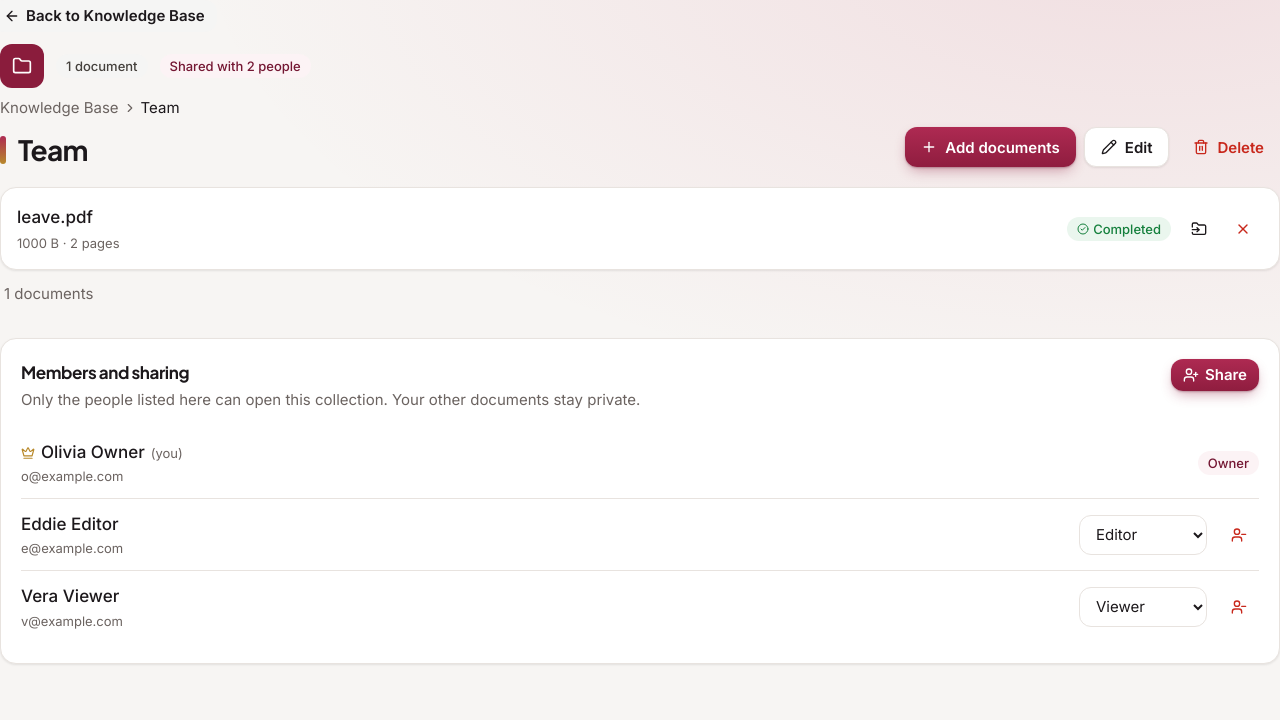
Test: Collection sharing (owner) › shows the server message when the email is not registered
The width and height of the screenshot is (1280, 720).
Click the button "Share" at (1215, 375), box [1171, 359, 1259, 391]
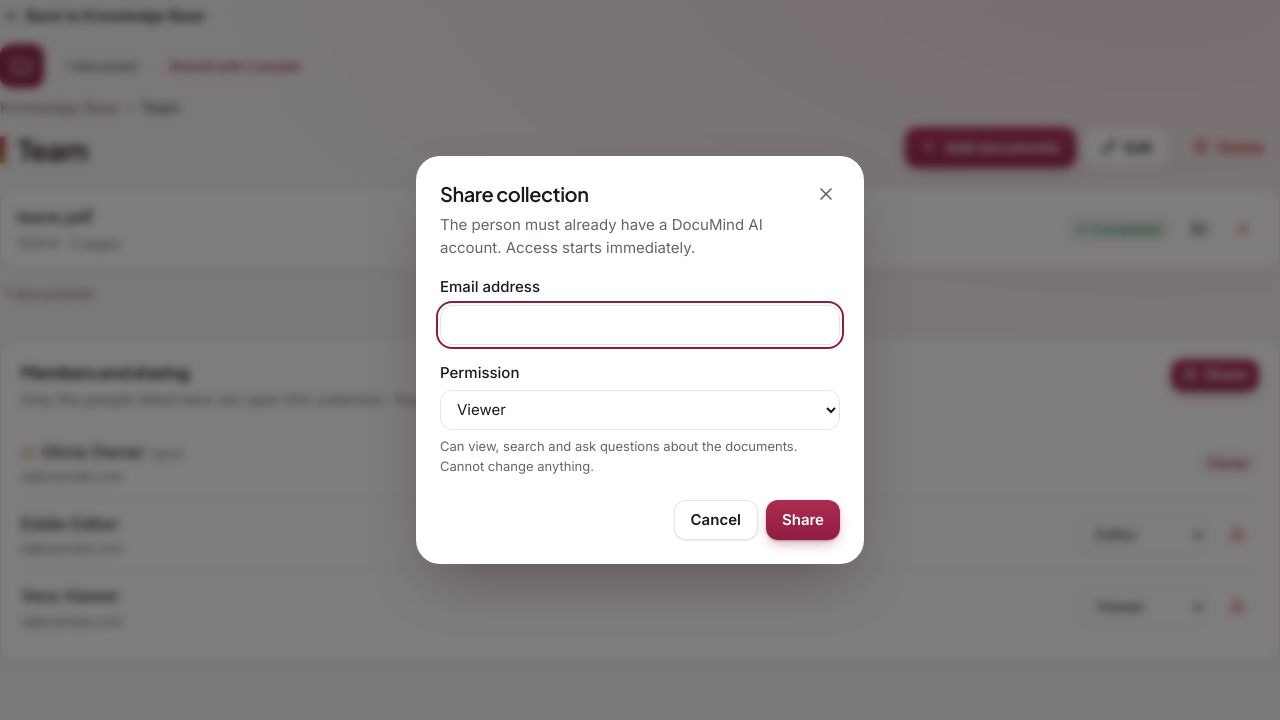
Type "ghost@example.com" into the field labelled "Email address" at (640, 325), box [440, 305, 840, 345]
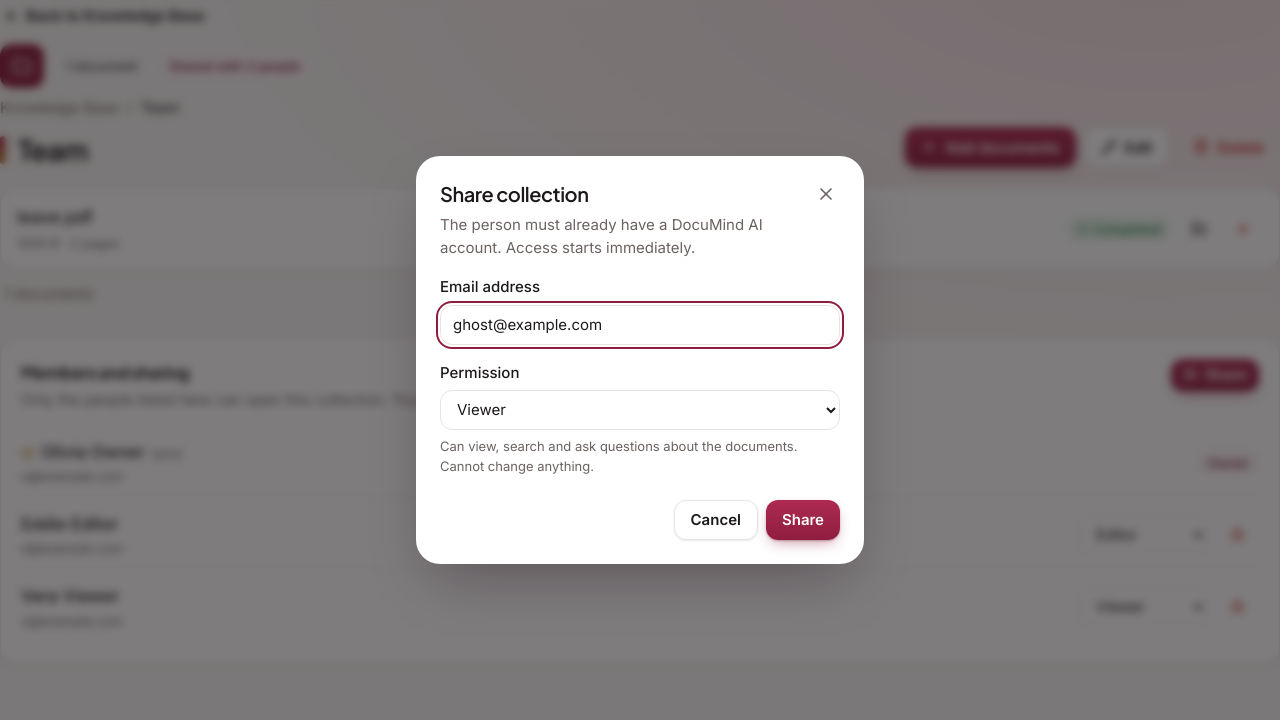
Click the button "Share" at (803, 520), box [766, 500, 840, 540]
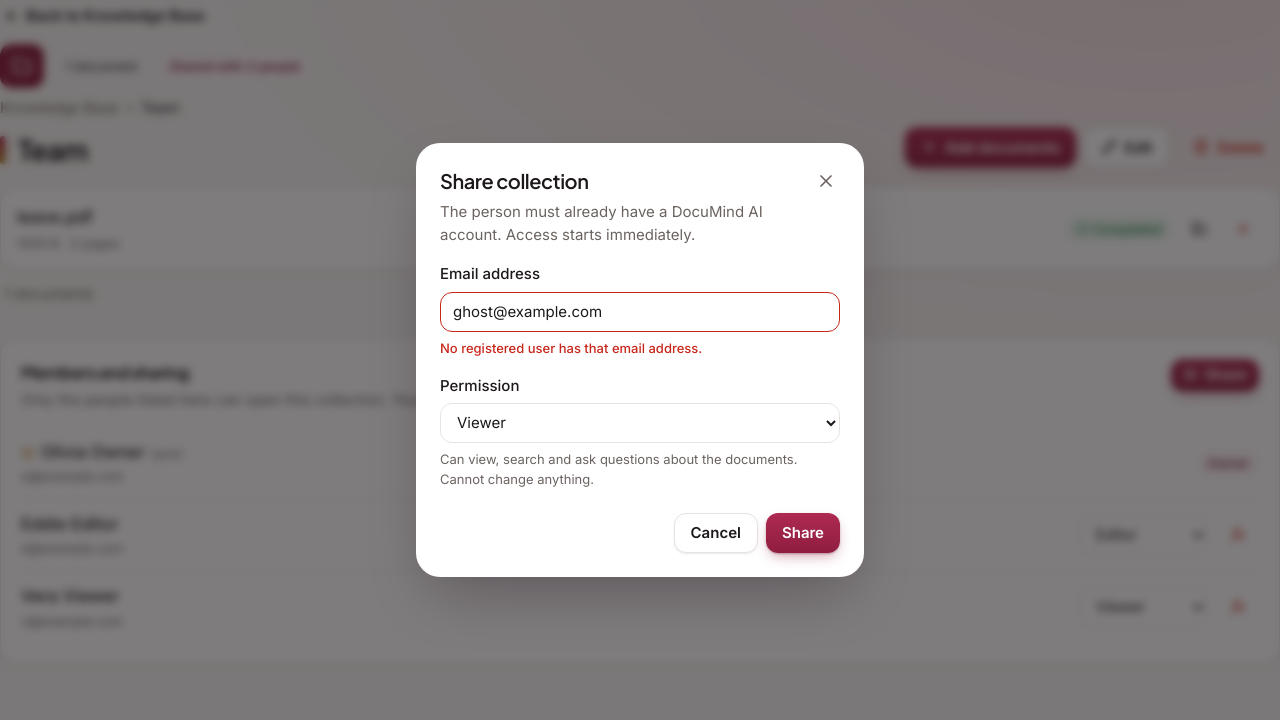
Result: the text "No registered user has that email address." is shown at [440, 340, 702, 356]
